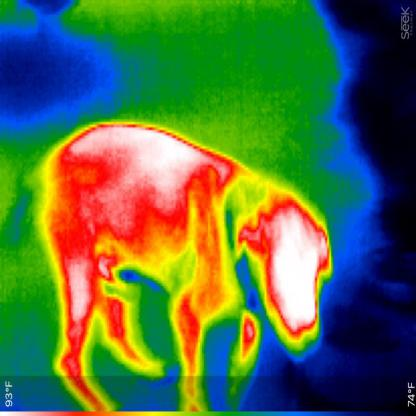dog: (32, 118, 336, 411)
